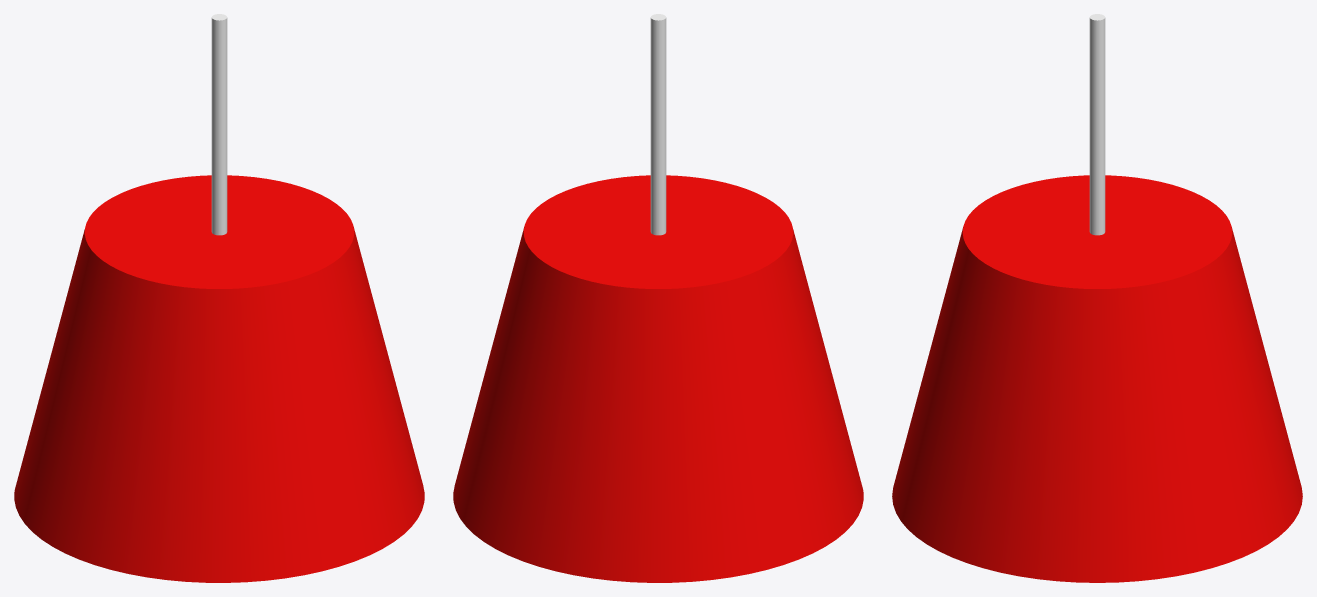
Rendered from Middle-First-Floor-Lamp.fbx.
The picture shows the model from 3 angles, left to right: view 1: azimuth 30°, elevation 25°; view 2: azimuth 150°, elevation 25°; view 3: azimuth 270°, elevation 25°; orthographic projection.
Parts seen in each view (by area): view 1: Cylinder.029, Cylinder.028; view 2: Cylinder.029, Cylinder.028; view 3: Cylinder.029, Cylinder.028.
Boxes of the visible parts, <box> form: Cylinder.029: <box>14,175,424,582</box>; Cylinder.028: <box>211,14,227,235</box>; Cylinder.029: <box>453,175,863,582</box>; Cylinder.028: <box>650,14,666,235</box>; Cylinder.029: <box>892,175,1302,582</box>; Cylinder.028: <box>1089,14,1105,235</box>.
Bounding box in the file's own units: 74.63 × 96.03 × 74.63.
